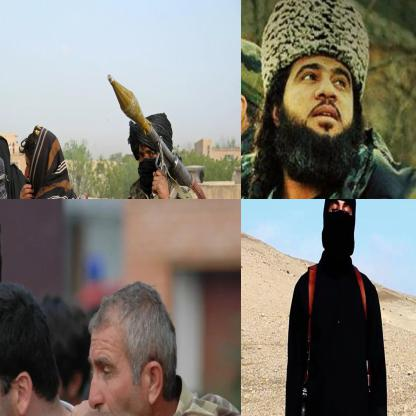rifle: (102, 71, 240, 198)
